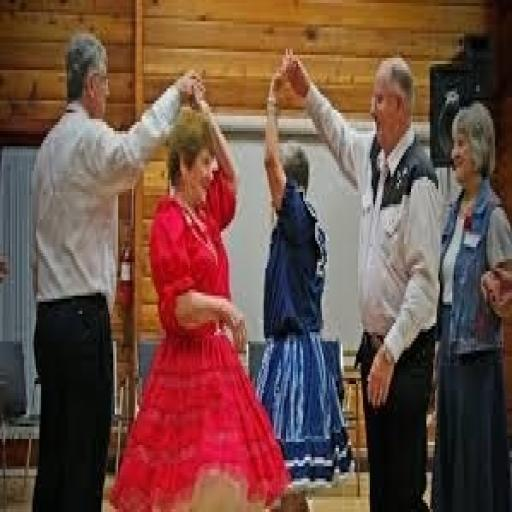dancing: (29, 27, 206, 509), (108, 73, 296, 509), (281, 43, 445, 509)
